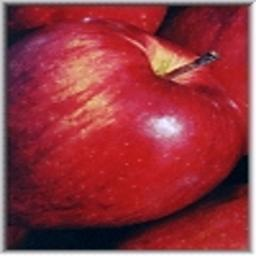apple: (4, 11, 245, 234)
